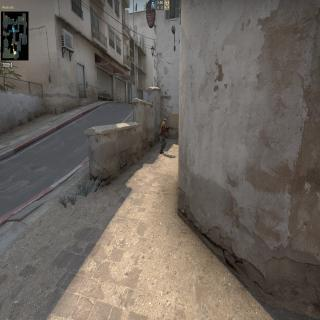T-Head: (164, 118, 167, 126)
